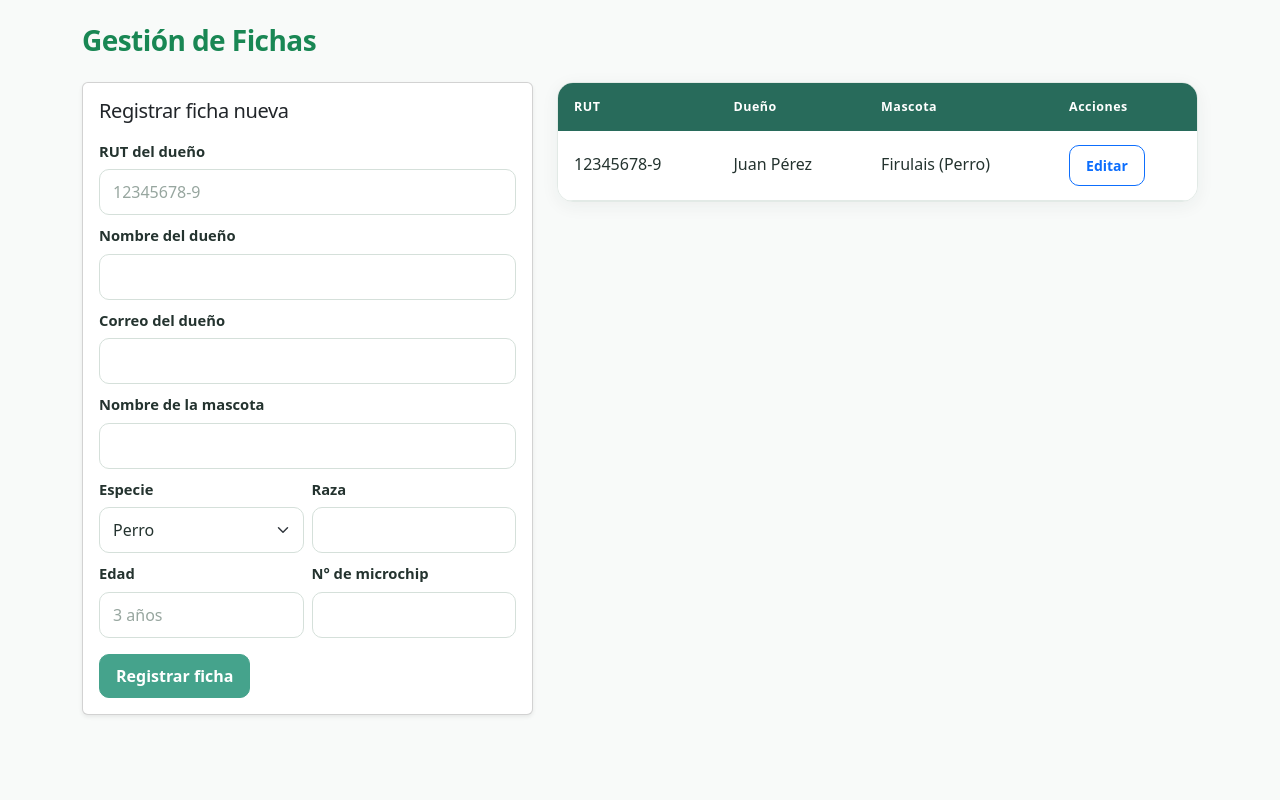
Test: FichasPage › cancelar la edición vuelve al formulario de registro
Click the button with aria-label "Editar ficha de Firulais": coordinates (1107, 165) [1069, 145, 1145, 186]
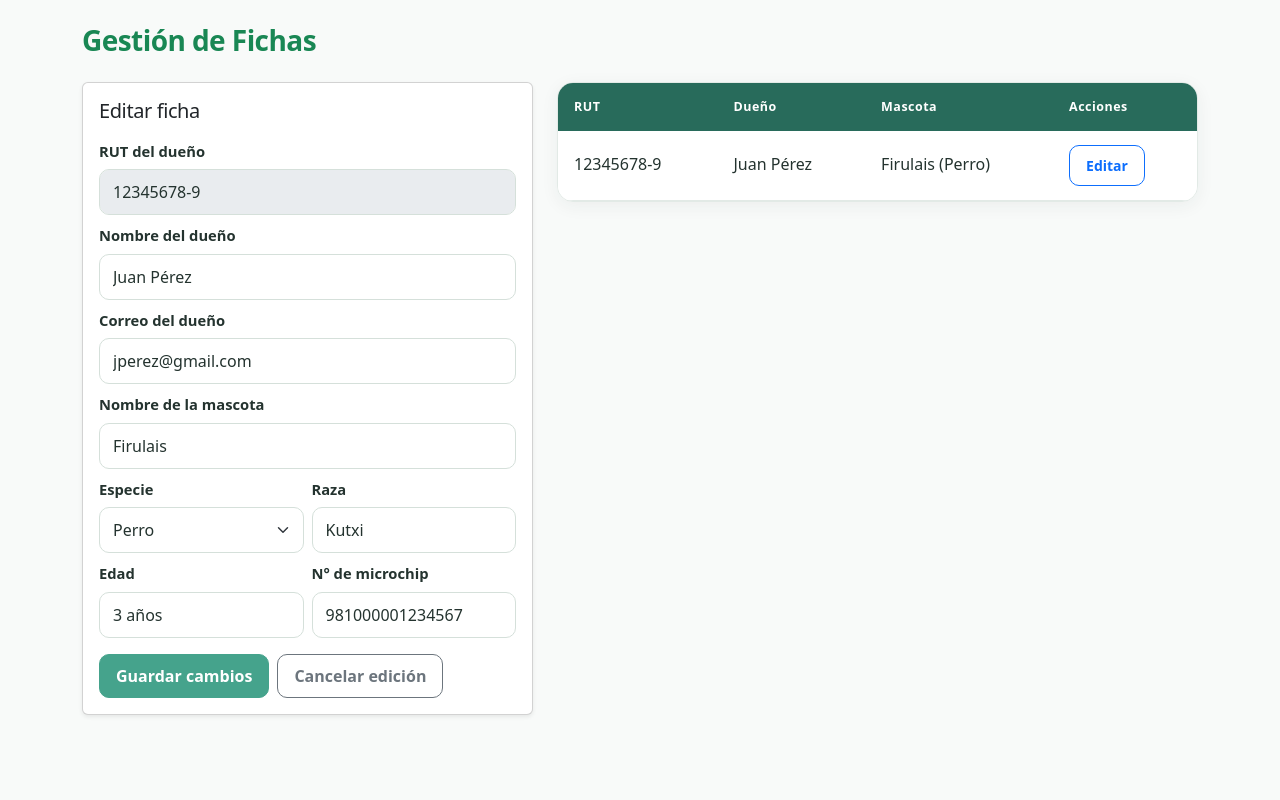
Click the button "Cancelar edición": coordinates (360, 676) [277, 654, 443, 698]
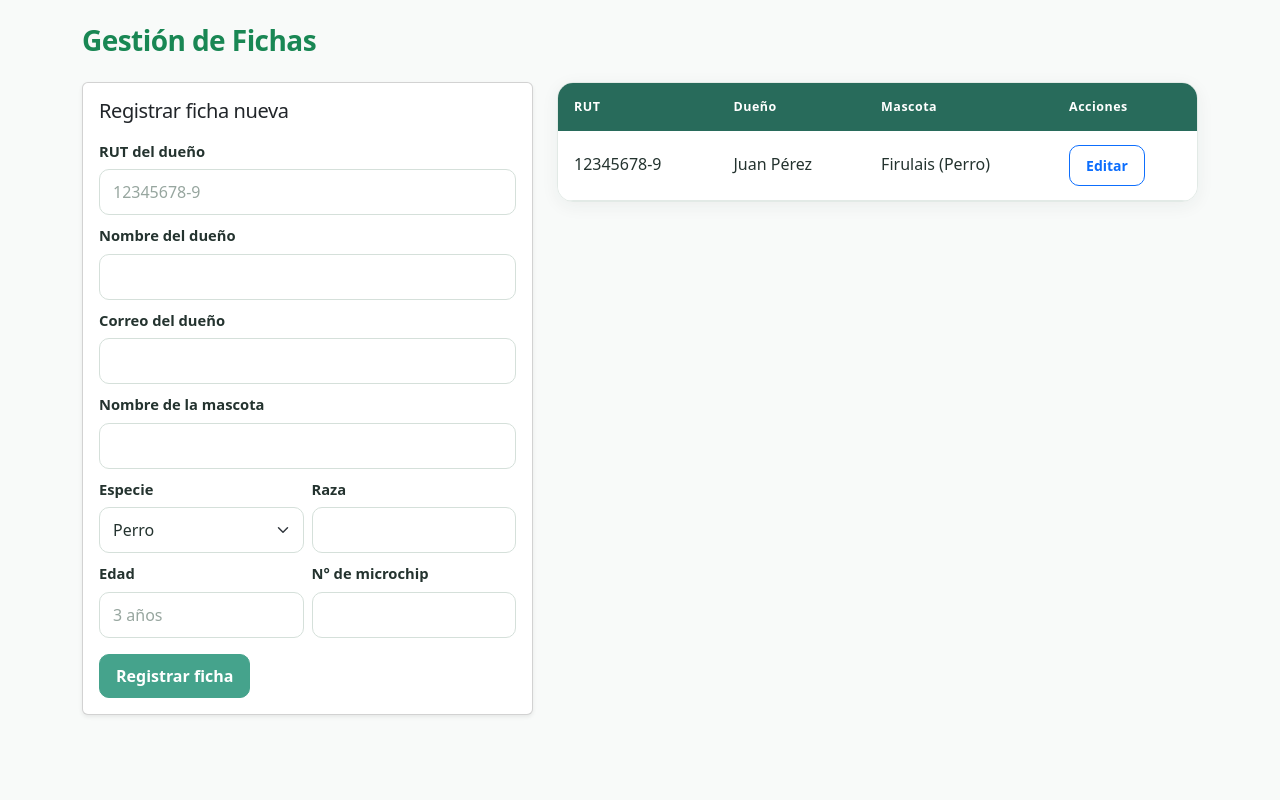
Check: the button "Registrar ficha" is shown, box [99, 654, 250, 698]
Check: the field labelled "RUT del dueño" is enabled, box [99, 169, 516, 215]
